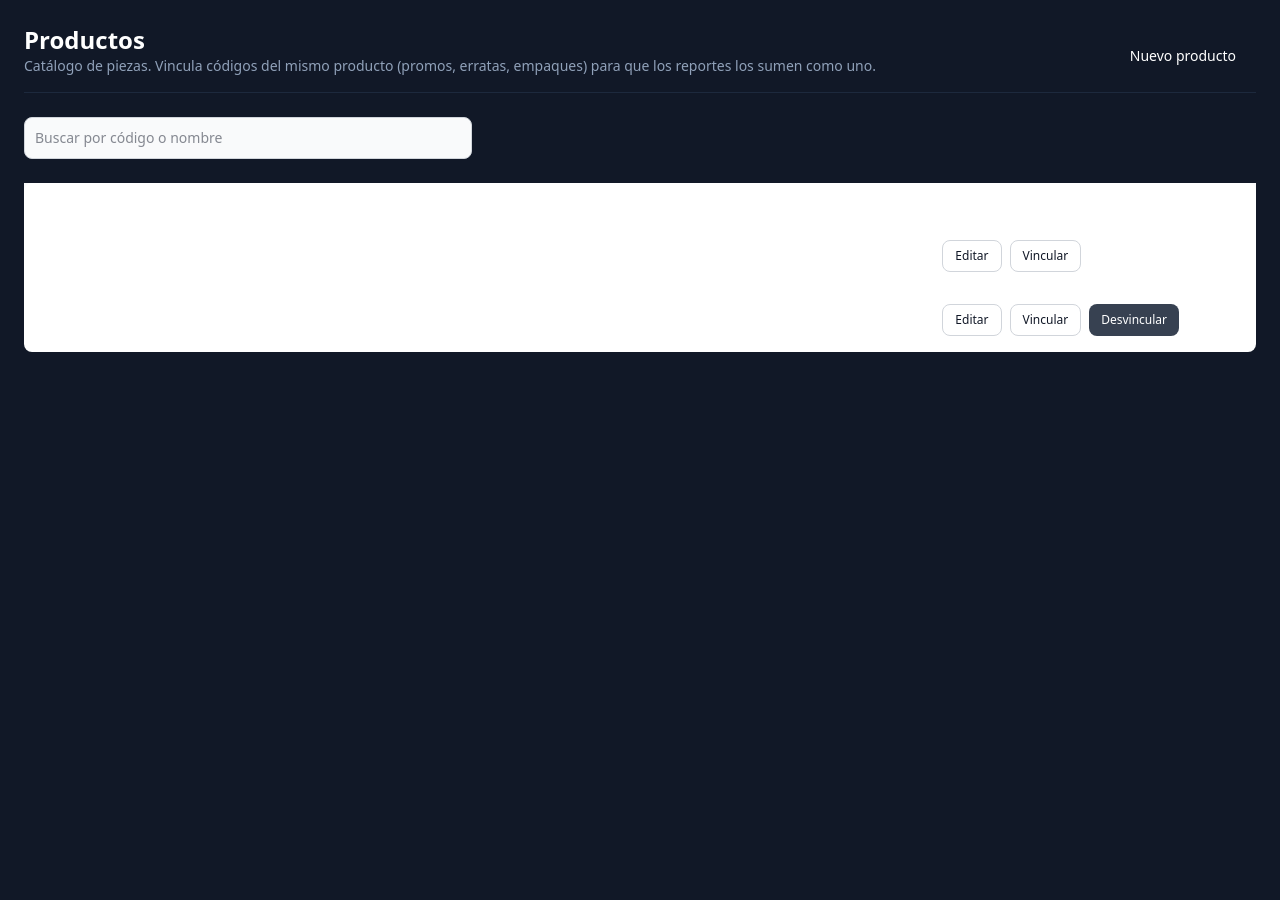
Test: ProductsPage › shows the server message when the update fails
Click the button "Editar" in the row of "Frijol negro" at (972, 256), box [942, 240, 1002, 272]
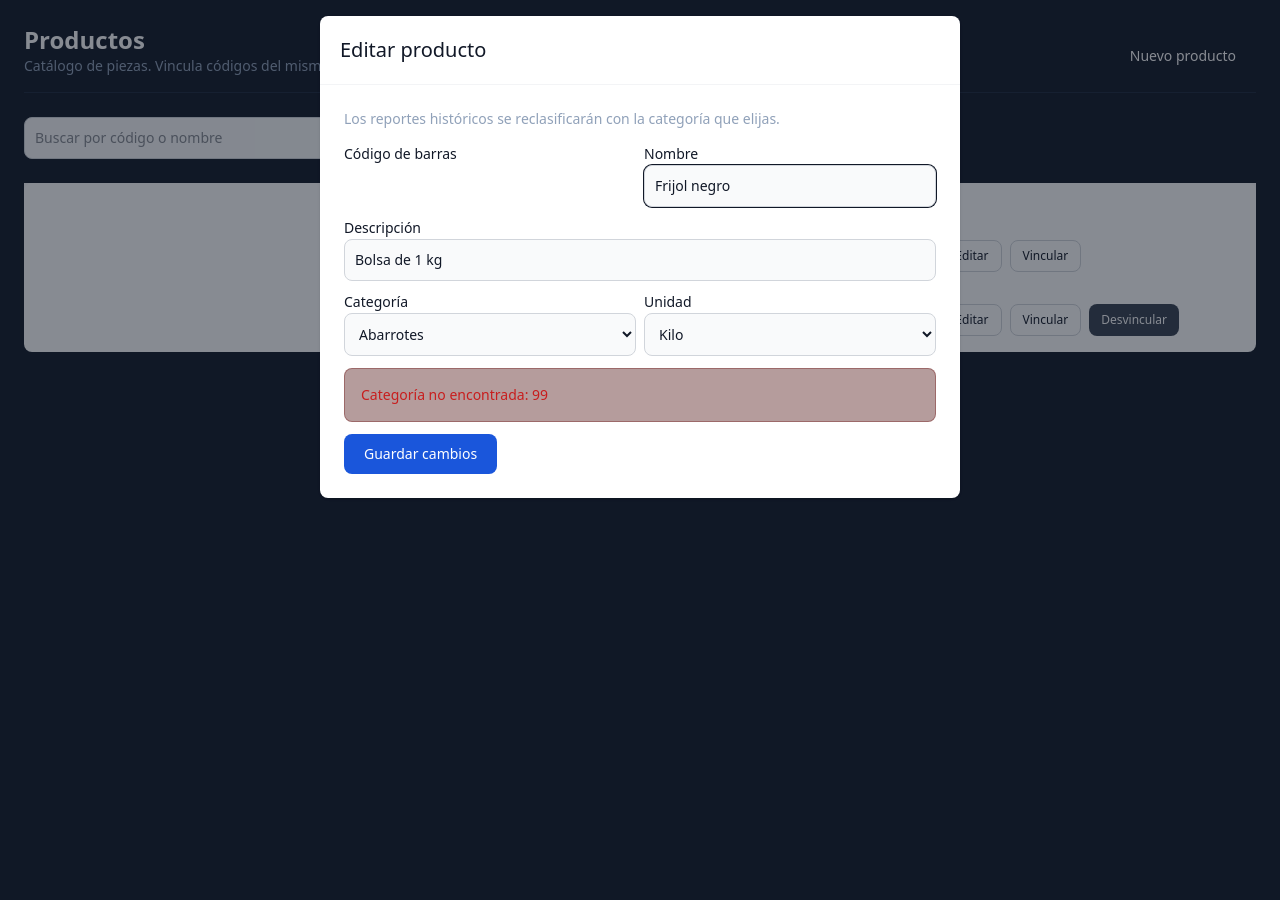
Check: the text "Categoría no encontrada: 99" is shown, box [361, 385, 548, 405]
